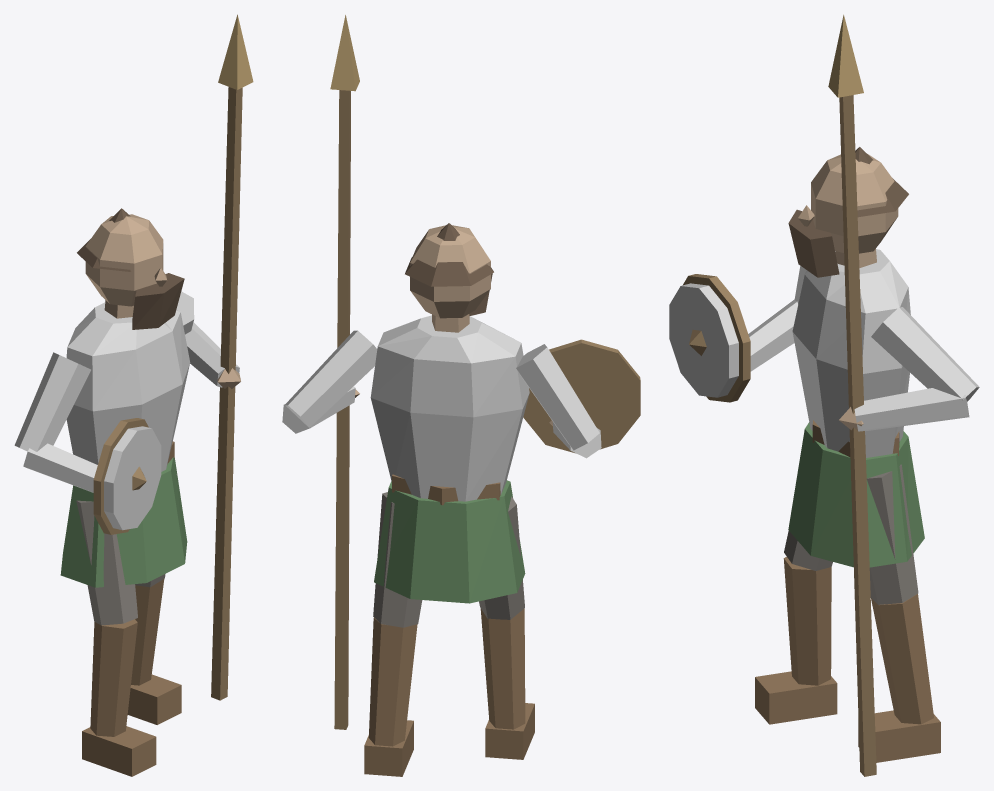
The model's file is pictish-warrior.glb.
3 renders of one model, left to right at view 1: azimuth 30°, elevation 25°; view 2: azimuth 150°, elevation 25°; view 3: azimuth 270°, elevation 25°, orthographic. The views are drawn at different scales.
Visible parts, largest first — view 1: LOD0; view 2: LOD0; view 3: LOD0.
Boxes of the visible parts, bbox=[...] form: LOD0: bbox=[14, 14, 253, 776]; LOD0: bbox=[282, 15, 640, 776]; LOD0: bbox=[669, 14, 979, 776].
Size of what is drawn, in the model's own units: 0.4799 by 1.3 by 0.4722.
